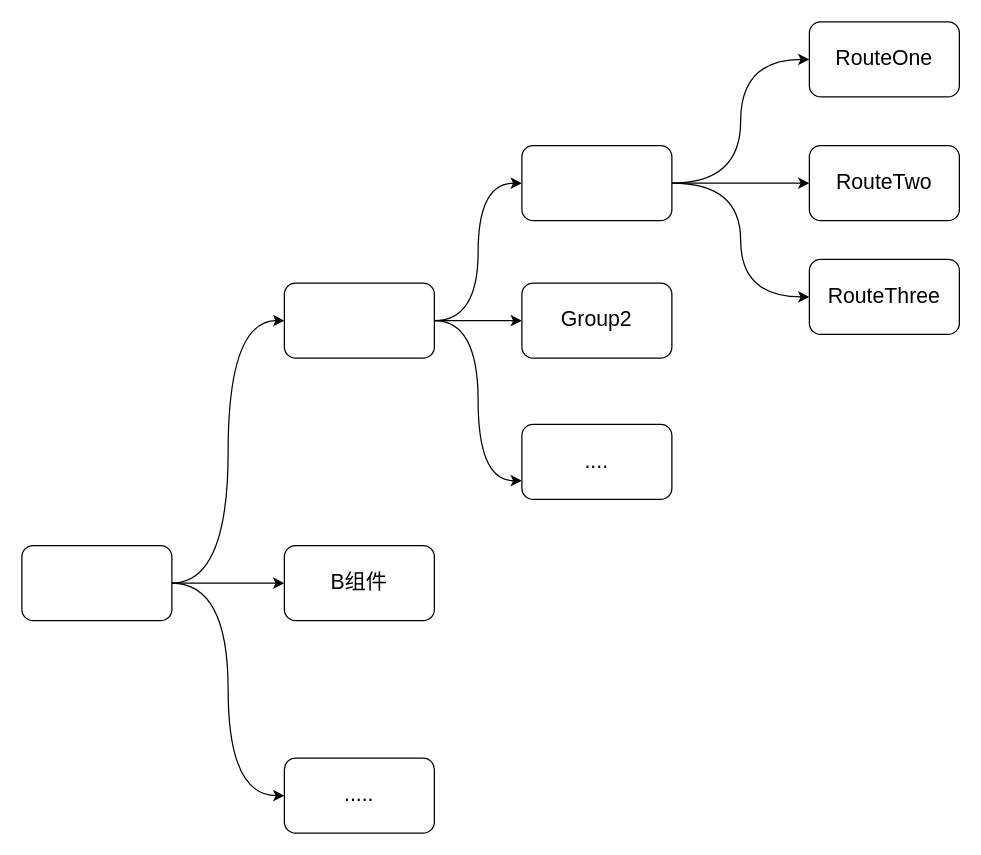
The diagram is 981 pixels wide and 855 high, and some of its shapes have lost their labels. The shapes that lost their labels are listed below. From the top down, each one's centre as x and y in pixels, then its label:
At pixel 596 182: "Group1".
At pixel 358 320: "A 组件".
At pixel 96 582: "HRouter".
